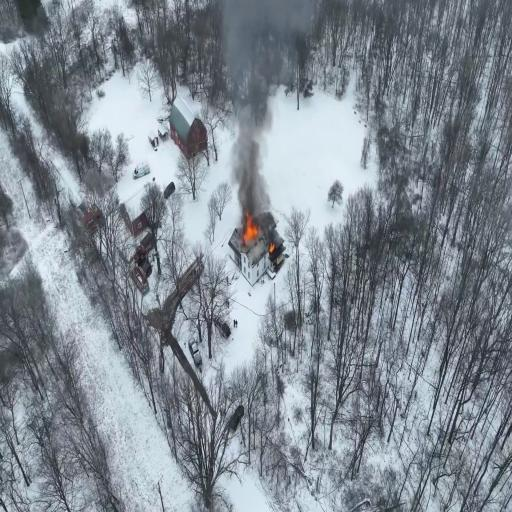fire: (238, 2, 263, 200), (242, 218, 256, 236)
